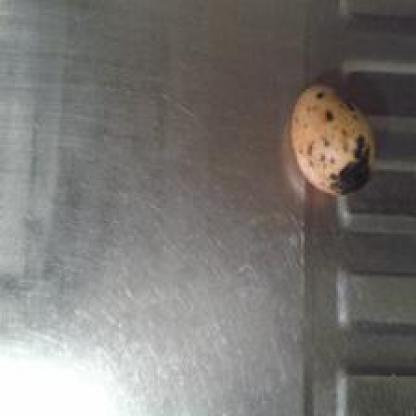mango_rotten: (286, 80, 375, 197)
